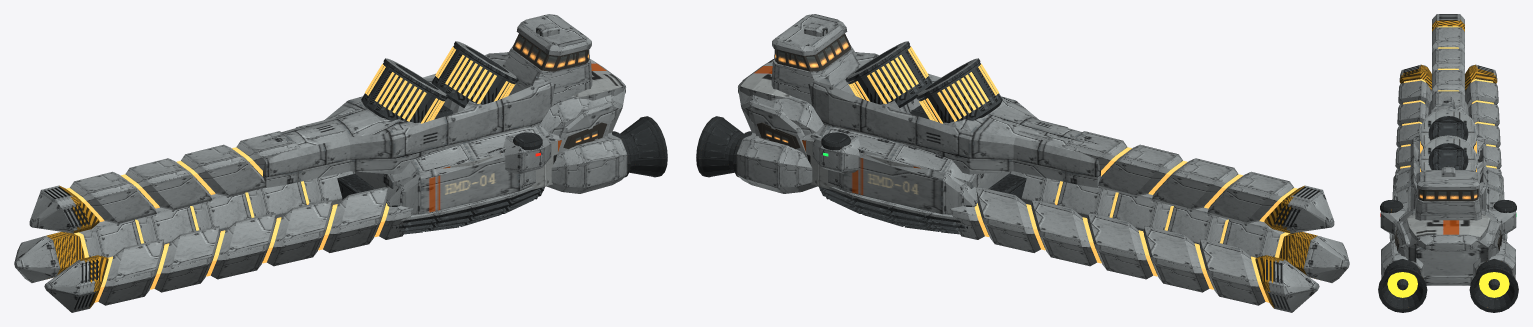
Rendered from siege.glb.
3 views of the same model, side by side, from view 1: azimuth 30°, elevation 25°; view 2: azimuth 150°, elevation 25°; view 3: azimuth 270°, elevation 25° (orthographic). The views are drawn at different scales.
Parts seen in each view (by area): view 1: hull plating, capacitor plating, engine_port plating, generator plating; view 2: hull plating, capacitor plating, engine_starboard plating, generator plating; view 3: hull plating, capacitor plating, engine_port plating, engine_starboard plating, rangefinder plating.
Boxes of the visible parts, x1,y1,x2,y2 form: hull plating: [14, 14, 625, 312]; capacitor plating: [361, 41, 518, 123]; engine_port plating: [546, 116, 667, 193]; generator plating: [337, 173, 544, 234]; hull plating: [738, 14, 1349, 312]; capacitor plating: [845, 41, 1002, 123]; engine_starboard plating: [696, 116, 817, 193]; generator plating: [819, 173, 1026, 234]; hull plating: [1380, 14, 1516, 285]; capacitor plating: [1419, 108, 1477, 171]; engine_port plating: [1378, 239, 1427, 312]; engine_starboard plating: [1469, 239, 1518, 312]; rangefinder plating: [1441, 165, 1455, 176].
Bounding box in the file's own units: 2 × 0.526 × 0.5219.
Materials: 14 (3 with a texture image).
